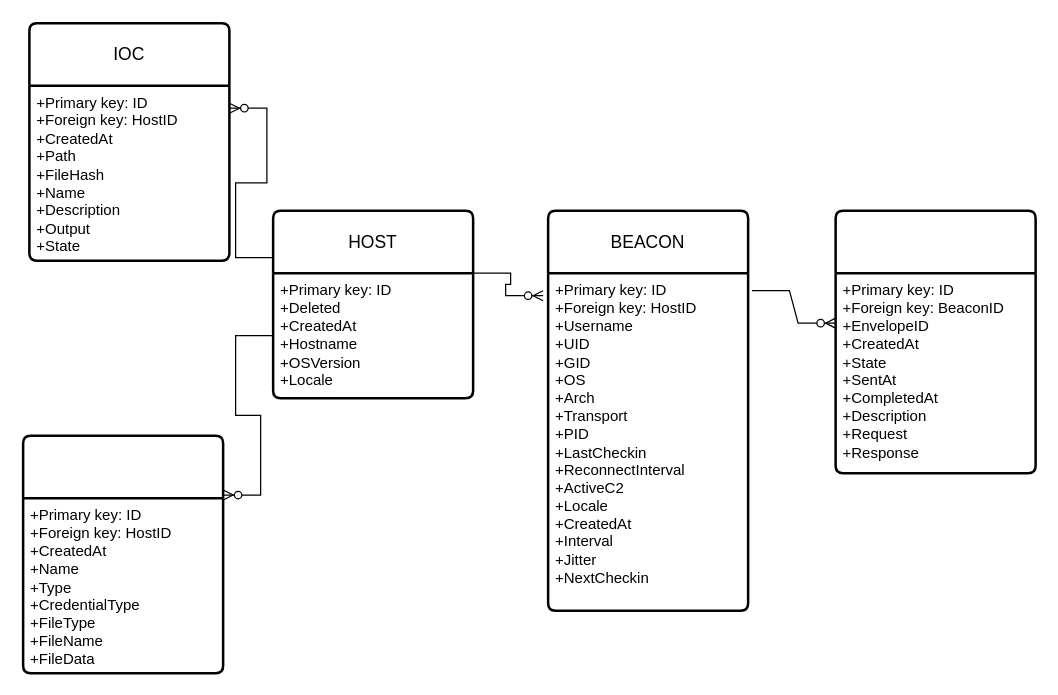
This 1058x695 diagram has some shape labels left out. The box of each missing label's shape, as (x1, y1, x2, y2) in pixels:
BEACON TASK: (834, 209, 1036, 474)
LOOT: (21, 434, 224, 674)
